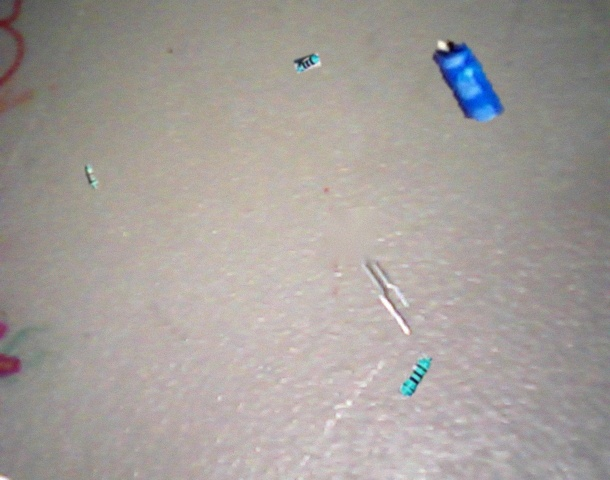capacitor: (432, 40, 505, 122)
resistor: (398, 352, 433, 399), (294, 53, 321, 73), (82, 164, 100, 190)
